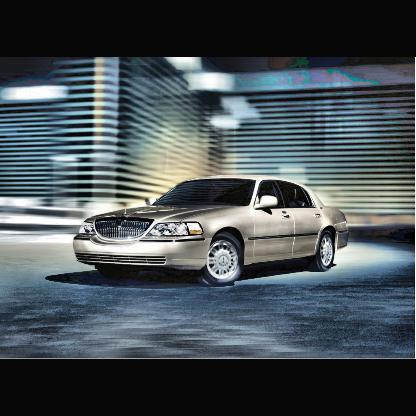Lincoln Town Car Sedan 2011: (74, 172, 352, 289)
